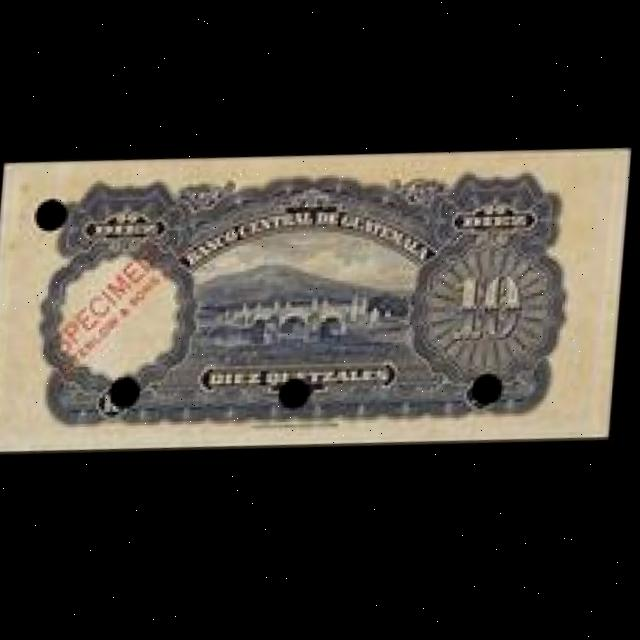banknote: (0, 127, 635, 476)
